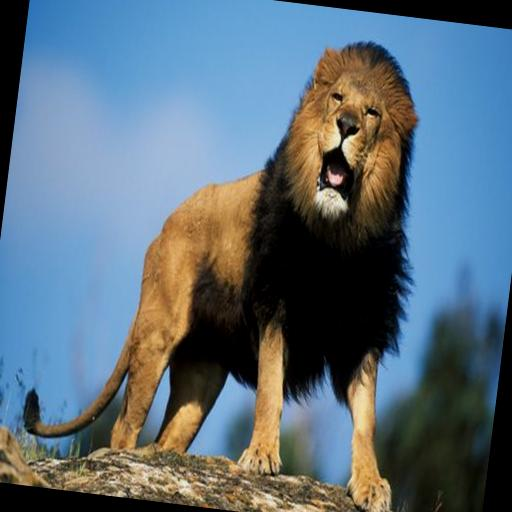lions: (57, 30, 496, 512)
